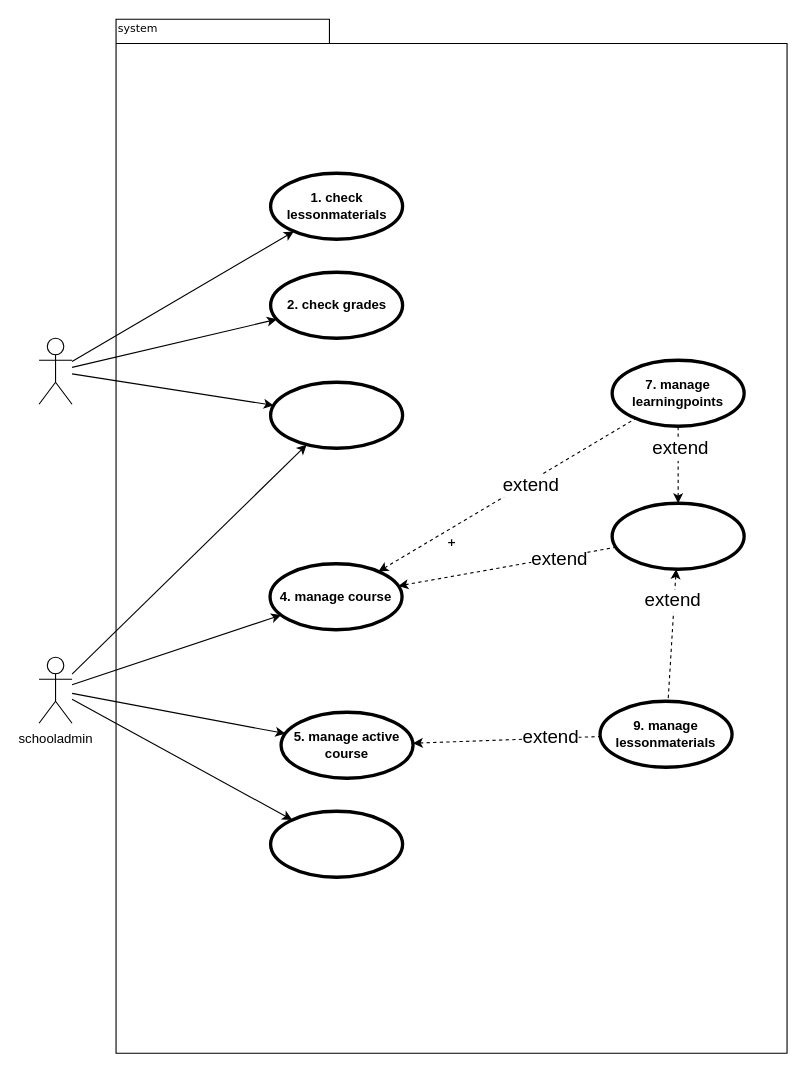
This 806x1073 diagram has some shape labels left out. The shapes that lost their labels are listed below. From the top down, each one's box as (x1, y1, x2, y2) in pixels, then its label:
(38, 337, 72, 404): student
(268, 380, 404, 449): 3. check agenda
(610, 501, 745, 570): 8. manage lessons
(268, 809, 404, 878): 6. manage grades
